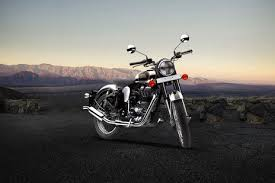bike: (87, 32, 202, 150)
